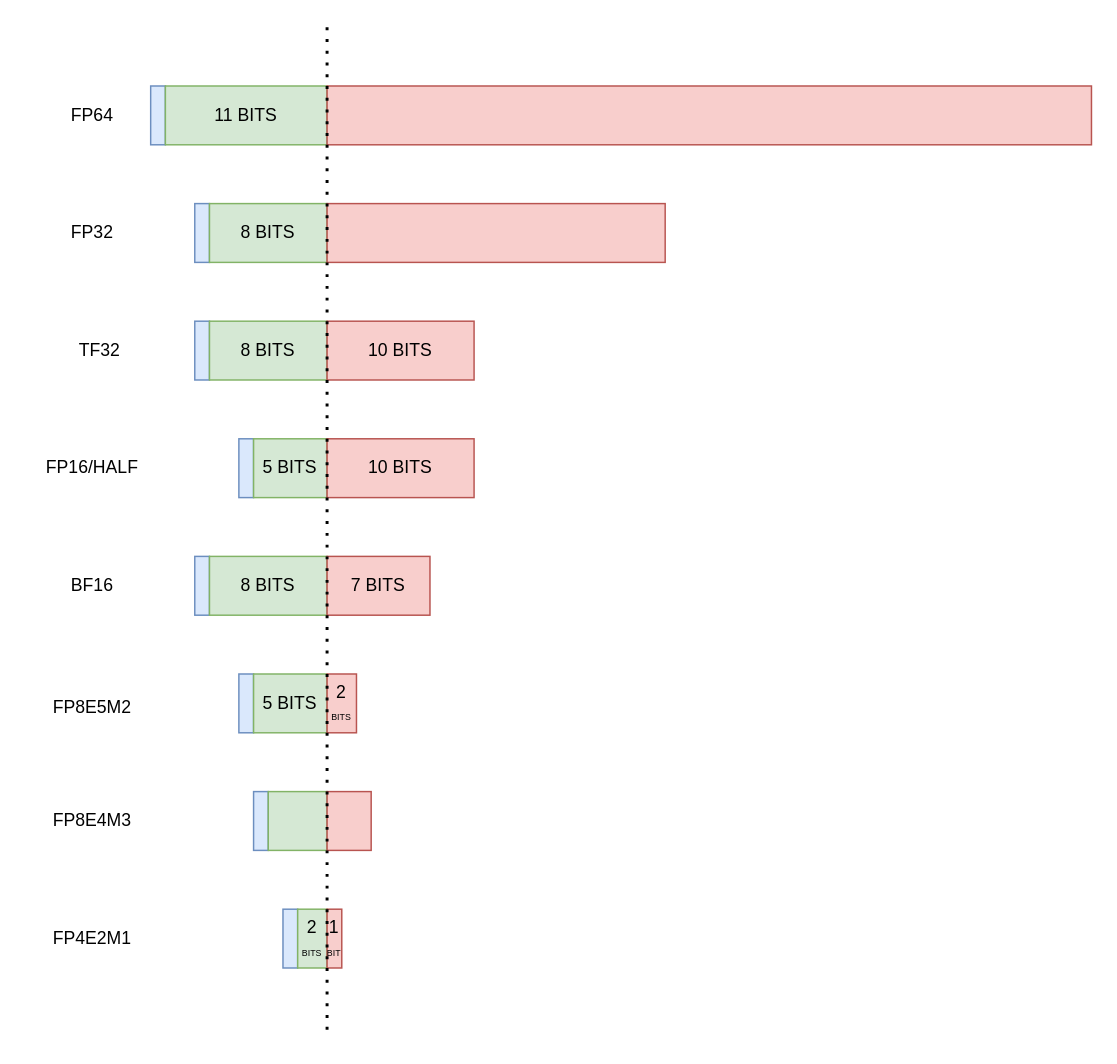
This 1117x1064 diagram has some shape labels left out. The box of each missing label's shape, as (x1, y1, x2, y2) in pixels:
23 BITS: (326, 202, 665, 262)
3 BITS: (326, 790, 371, 850)
4 BITS: (267, 790, 327, 850)
52 BITS: (326, 85, 1091, 145)
